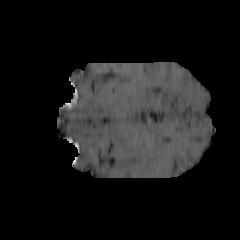glioma: (105, 110, 162, 164)
